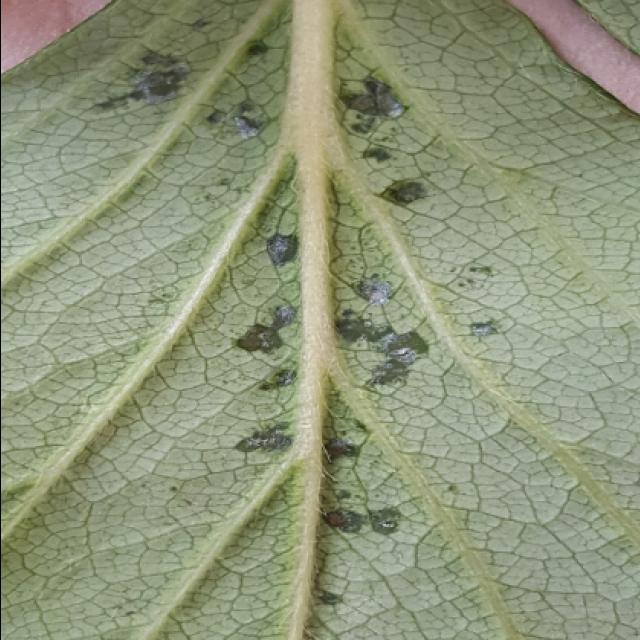Angular Leafspot: (82, 7, 515, 626)
